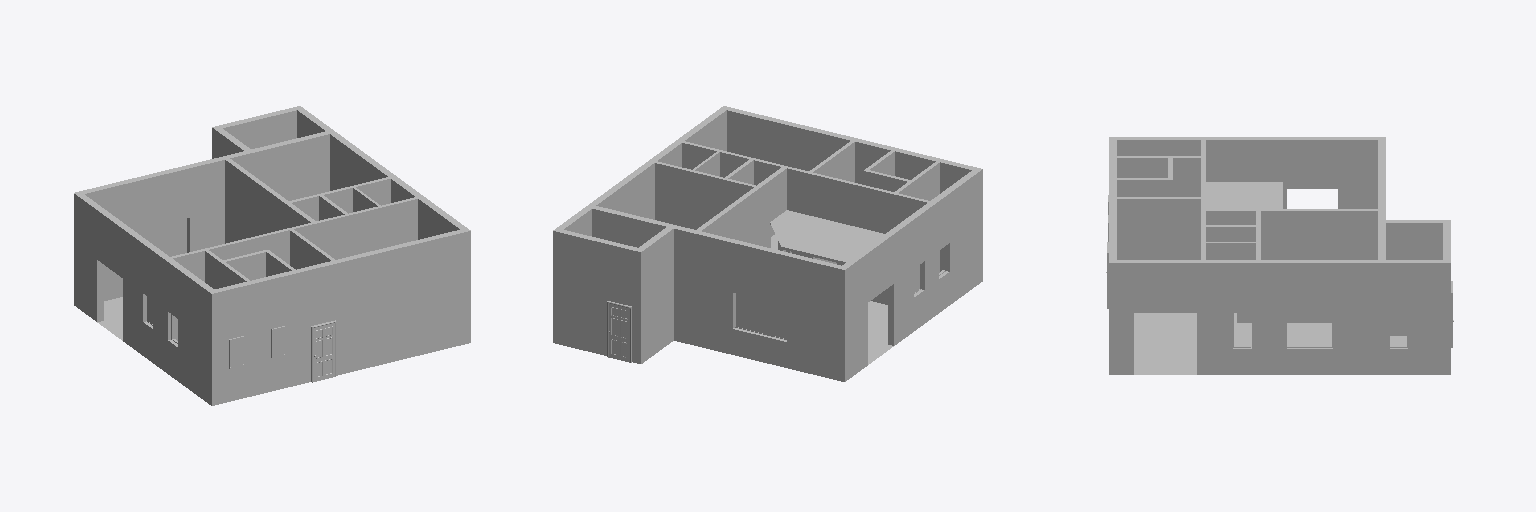
File: 3ddD.obj
3 views of the same model, side by side, from view 1: azimuth 30°, elevation 25°; view 2: azimuth 150°, elevation 25°; view 3: azimuth 270°, elevation 25° (orthographic).
Visible parts, largest first — view 1: 3D.4; view 2: 3D.4; view 3: 3D.4.
Boxes of the visible parts, x1=… form: 3D.4: x1=74, y1=106, x2=470, y2=405; 3D.4: x1=553, y1=106, x2=982, y2=381; 3D.4: x1=1106, y1=137, x2=1453, y2=374.
Bounding box in the file's own units: 1040 × 430 × 1207.